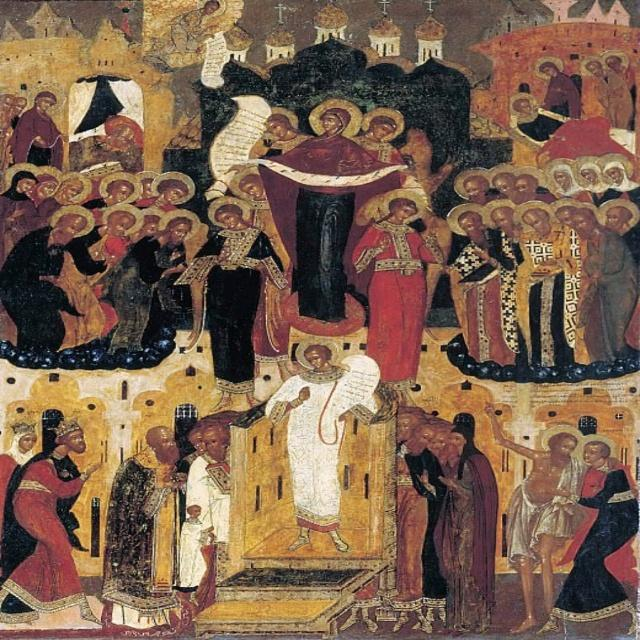apostle: (446, 206, 516, 377), (562, 202, 630, 365), (521, 204, 571, 362), (481, 201, 529, 363)
aura: (311, 98, 364, 137), (98, 169, 144, 208), (51, 204, 95, 242), (596, 198, 639, 236), (209, 192, 254, 228), (379, 189, 427, 222), (361, 106, 406, 141), (151, 170, 196, 204), (1, 161, 43, 197), (452, 164, 491, 199), (568, 199, 604, 236), (541, 158, 578, 194), (53, 168, 94, 200), (517, 201, 558, 233), (164, 209, 204, 241), (33, 164, 68, 200), (448, 201, 488, 232), (571, 156, 604, 193), (99, 208, 144, 234), (27, 83, 66, 112), (263, 104, 298, 136), (484, 199, 519, 231), (490, 164, 517, 204), (601, 151, 631, 186), (514, 162, 545, 195), (136, 207, 166, 236), (580, 54, 611, 81), (536, 52, 565, 78), (508, 91, 537, 117), (599, 48, 630, 71)
book: (207, 462, 236, 498)
child: (170, 500, 212, 603)
church: (372, 1, 405, 59), (412, 1, 441, 59), (267, 4, 297, 59), (226, 6, 255, 61), (315, 1, 351, 40)
cross: (272, 2, 291, 28), (378, 1, 390, 18), (426, 1, 436, 18)
king: (37, 411, 102, 599)
mary: (304, 97, 351, 334)
person: (100, 419, 181, 605), (444, 404, 496, 629), (384, 421, 434, 634), (186, 424, 232, 509)
queen: (1, 416, 42, 606)
saint: (268, 334, 373, 561), (488, 396, 566, 634), (186, 196, 268, 409), (361, 186, 433, 391), (571, 425, 639, 634), (1, 203, 95, 353), (133, 209, 201, 366), (21, 83, 69, 159), (529, 49, 584, 115), (597, 49, 638, 129), (362, 103, 404, 164), (518, 102, 570, 151), (586, 55, 622, 124), (263, 99, 304, 156), (1, 91, 27, 166)
scroll: (225, 158, 419, 188), (206, 92, 268, 179), (332, 353, 380, 413), (202, 28, 224, 93)
